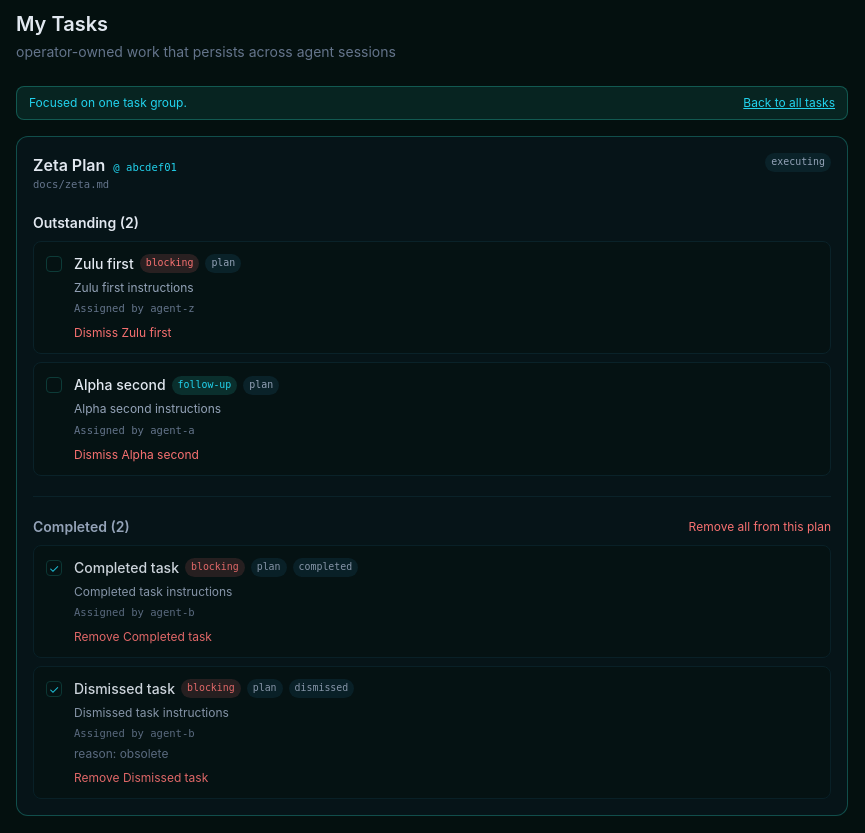
MyTasks › keeps plan focus while authoritative completion and reopen move a task
Click the checkbox named "Complete Zulu first". click: (54,264)
box: [46, 256, 62, 272]
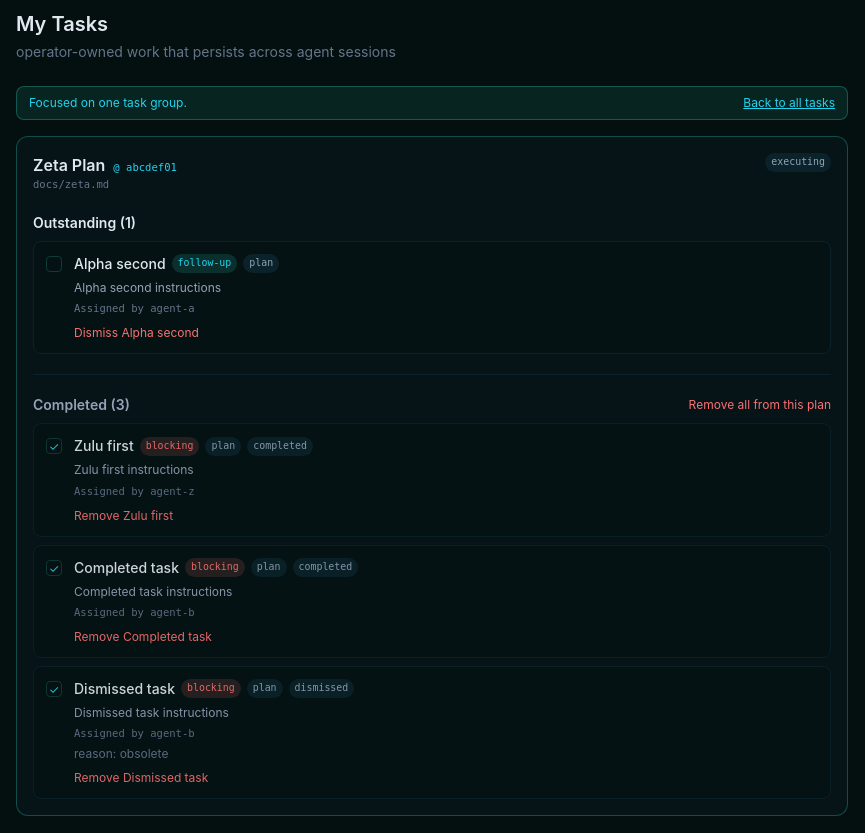
Expected: the checkbox named "Reopen Zulu first" is shown
Expected: the heading "Outstanding (1)" is shown, [33, 214, 136, 231]
Expected: the heading "Completed (3)" is shown, [33, 395, 130, 415]
Click the checkbox named "Reopen Zulu first". click: (54,446)
box: [46, 438, 62, 454]
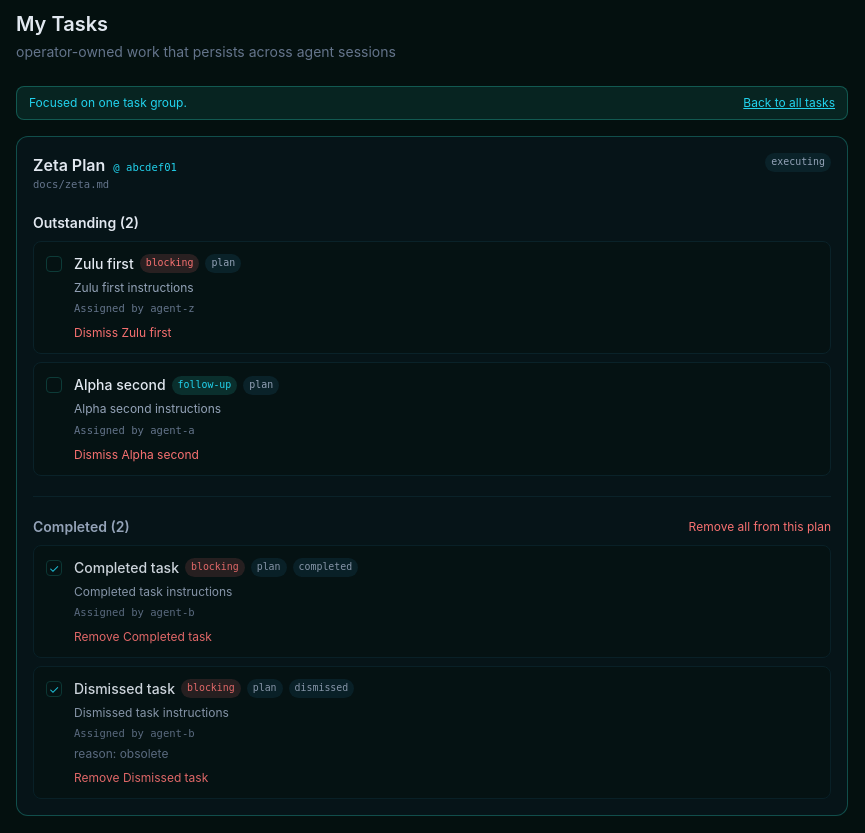
Expected: the checkbox named "Complete Zulu first" is shown, [46, 256, 62, 272]
Expected: the heading "Outstanding (2)" is shown, [33, 214, 139, 231]
Expected: the heading "Completed (2)" is shown, [33, 516, 130, 536]
